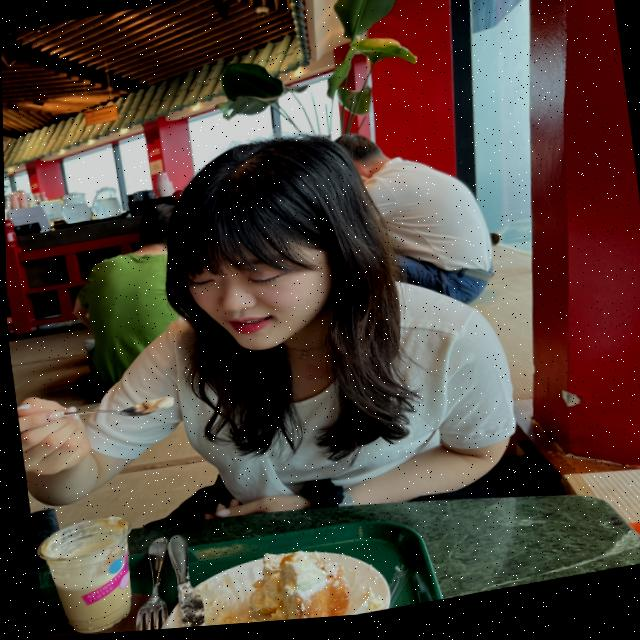eating-person: (2, 83, 540, 589)
